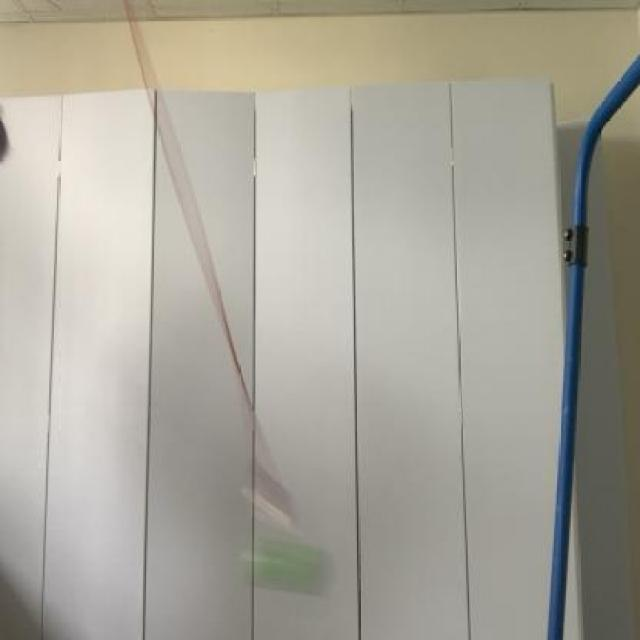baseball: (233, 526, 342, 606)
